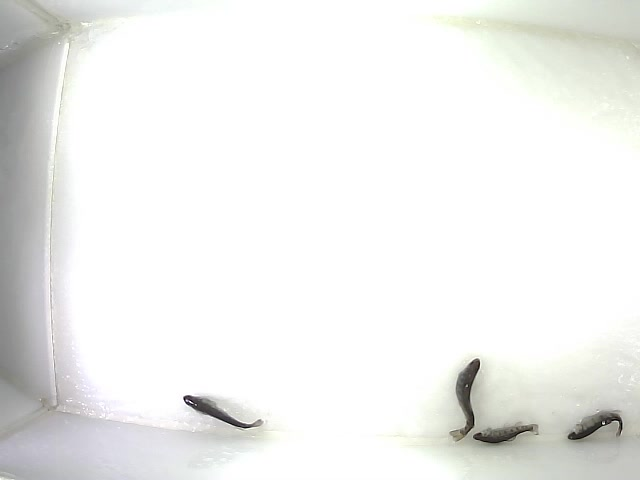fish: (182, 394, 265, 431), (449, 357, 482, 444), (565, 408, 624, 441), (472, 421, 541, 444)
